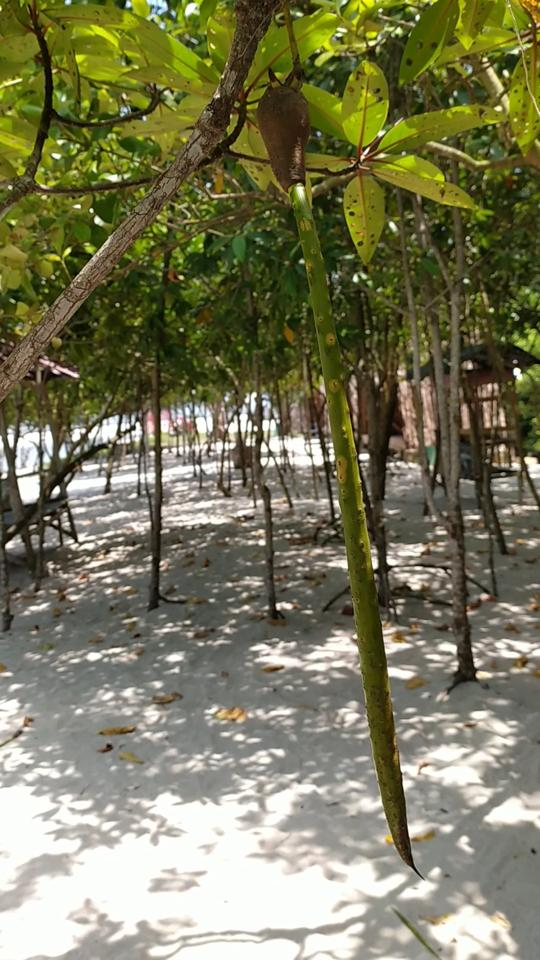setengah matang: (250, 70, 427, 877)
